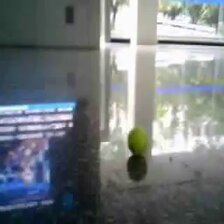tennis: (127, 128, 146, 152)
